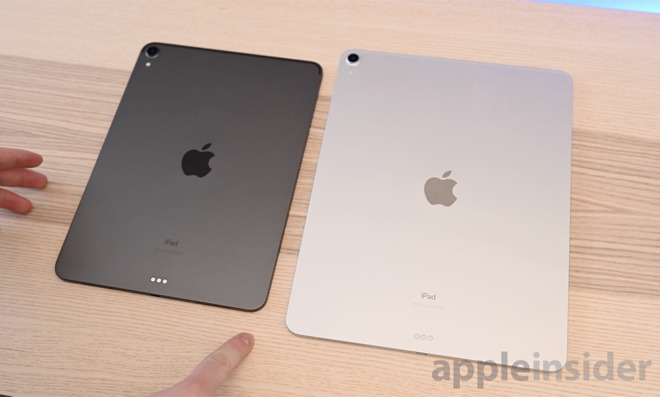apple: (400, 160, 469, 217), (172, 133, 239, 183)
